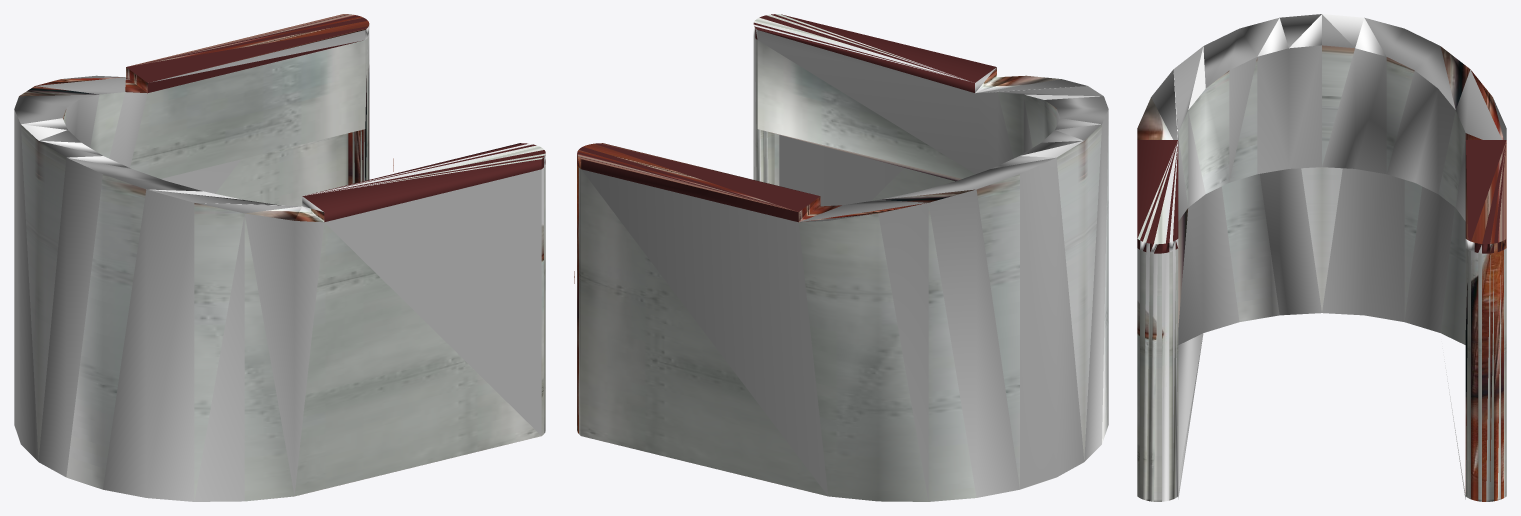
Rendered from arms.obj.
3 views of the same model, side by side, from view 1: azimuth 30°, elevation 25°; view 2: azimuth 150°, elevation 25°; view 3: azimuth 270°, elevation 25° (orthographic). The views are drawn at different scales.
Parts seen in each view (by area): view 1: arms_mesh2_mesh2-geometry; view 2: arms_mesh2_mesh2-geometry; view 3: arms_mesh2_mesh2-geometry.
Boxes of the visible parts, box(x1,y1,x2,y2) form: arms_mesh2_mesh2-geometry: box(14, 14, 545, 501); arms_mesh2_mesh2-geometry: box(574, 14, 1108, 501); arms_mesh2_mesh2-geometry: box(1137, 14, 1506, 501).
Size of the model in its own units: 0.6469 by 0.4591 by 0.5133.
